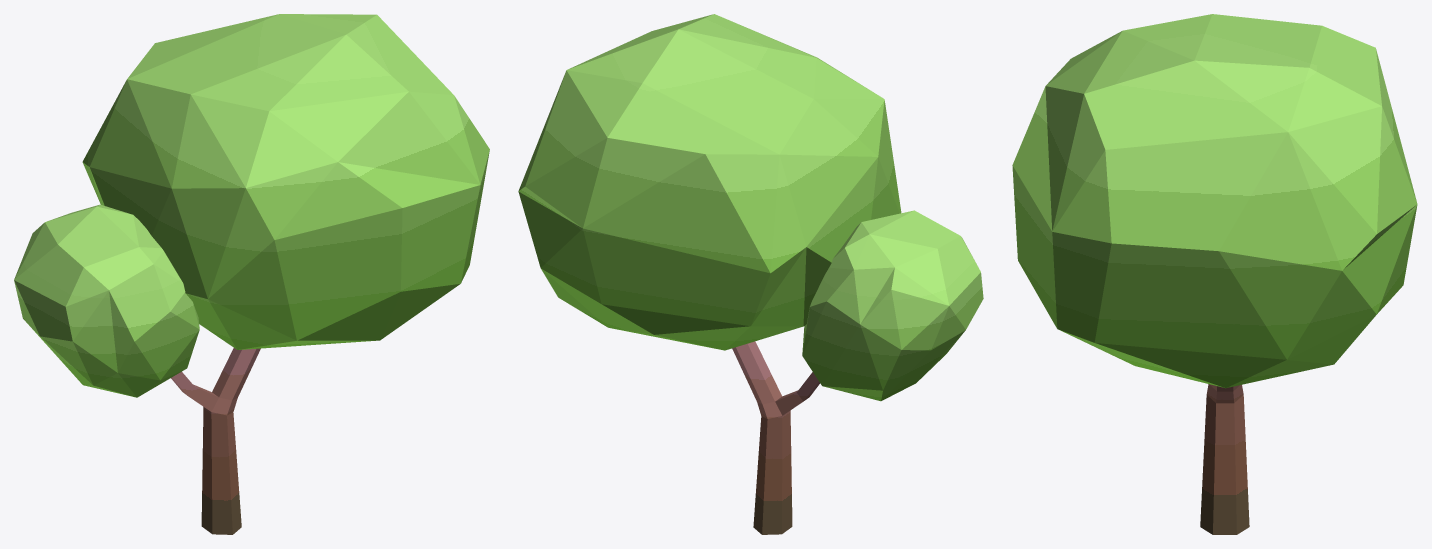
Rendered from Bush_001.fbx.
The picture shows the model from 3 angles, left to right: view 1: azimuth 30°, elevation 25°; view 2: azimuth 150°, elevation 25°; view 3: azimuth 270°, elevation 25°; orthographic projection. The views are drawn at different scales.
Parts seen in each view (by area): view 1: Bush.001; view 2: Bush.001; view 3: Bush.001.
Boxes of the visible parts, <box> form: Bush.001: <box>14,14,489,534</box>; Bush.001: <box>518,14,983,534</box>; Bush.001: <box>1012,14,1417,534</box>.
Bounding box in the file's own units: 6.01 × 6.48 × 4.52.
